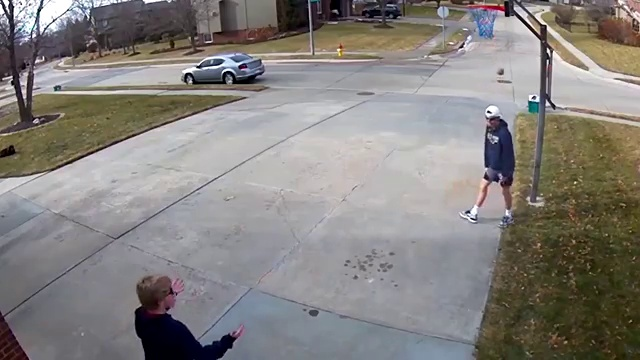face: (158, 287, 178, 308), (486, 113, 496, 127)
